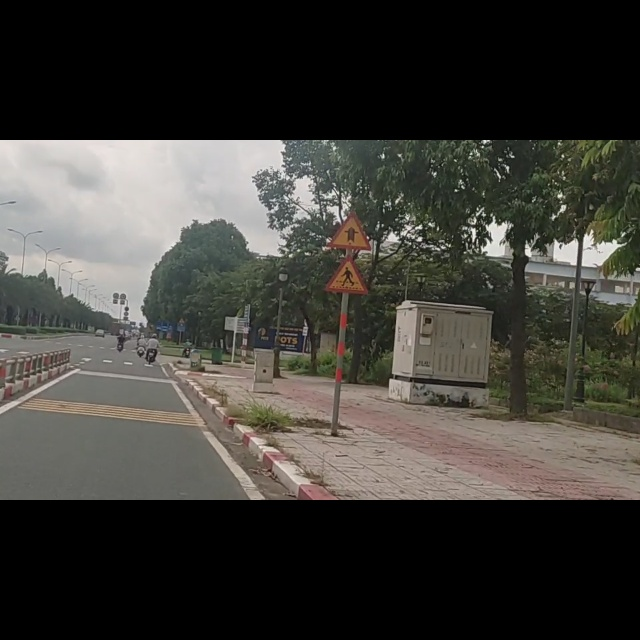bien_nguy_hiem: (325, 204, 370, 276), (329, 127, 372, 198)
